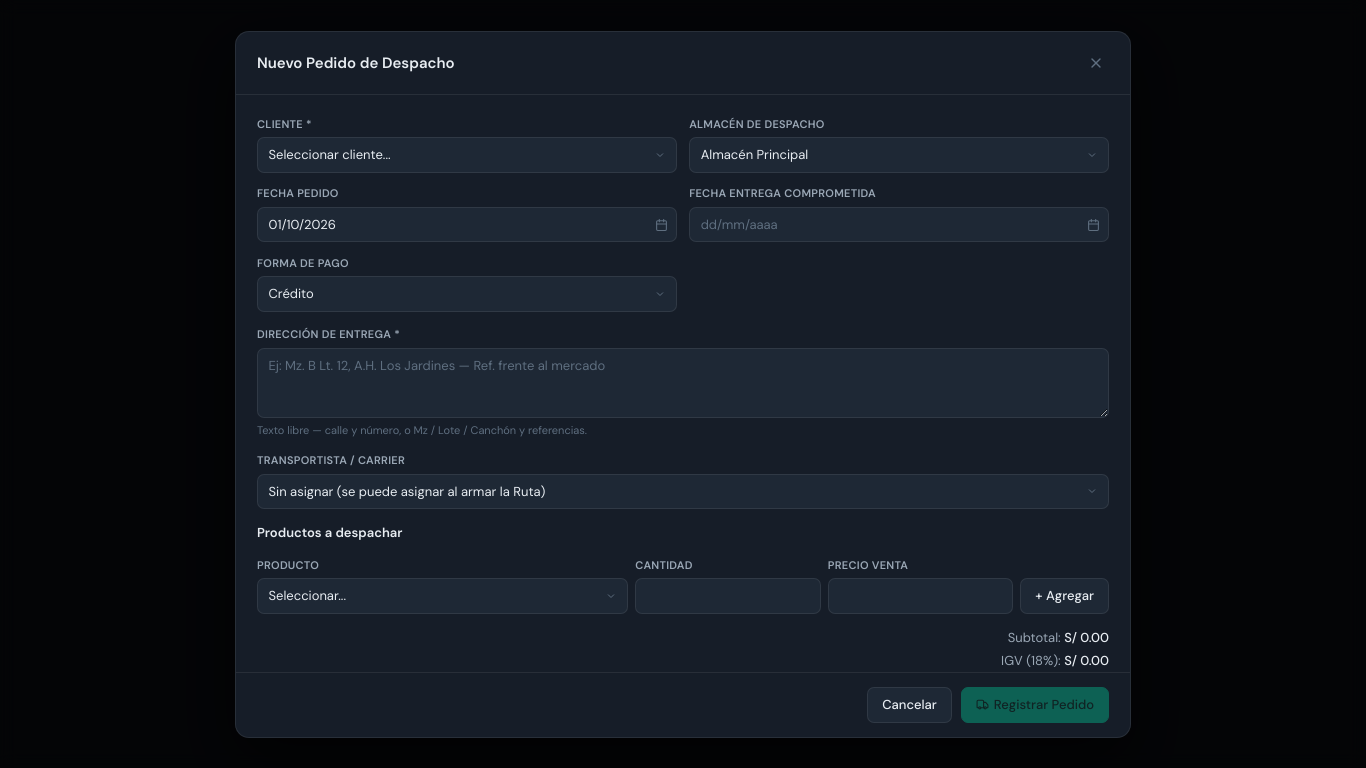
Test case: ModalNuevoPedido › bloquea agregar más cantidad que la disponible en el almacén
Select "Cliente Uno" in the dropdown below "Cliente *": {"x": 467, "y": 155} [257, 137, 677, 172]
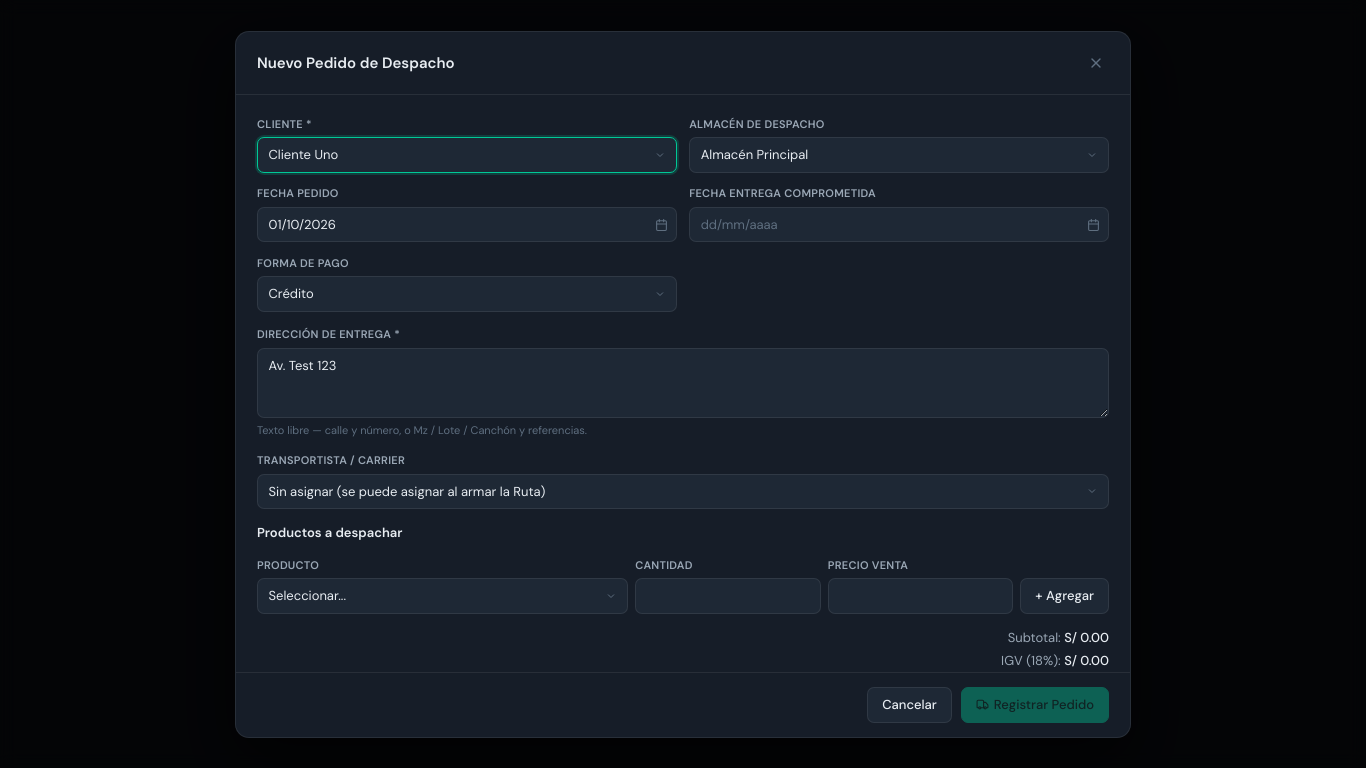
Select "SKU1 — Producto Uno (Stock: 10 UN)" in the dropdown below "Cantidad": {"x": 443, "y": 596} [257, 578, 628, 614]
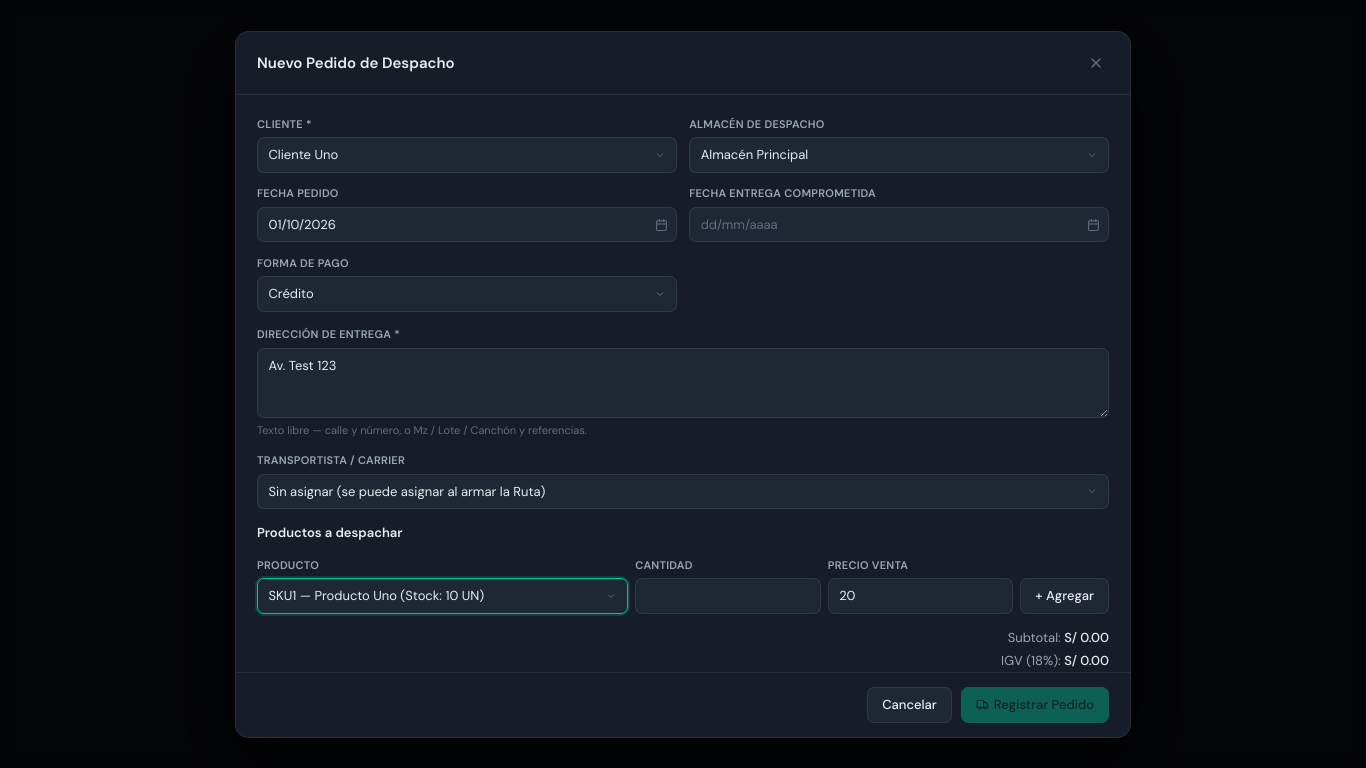
In the number field below "Cantidad": {"x": 728, "y": 596} [635, 578, 821, 614], type "15"
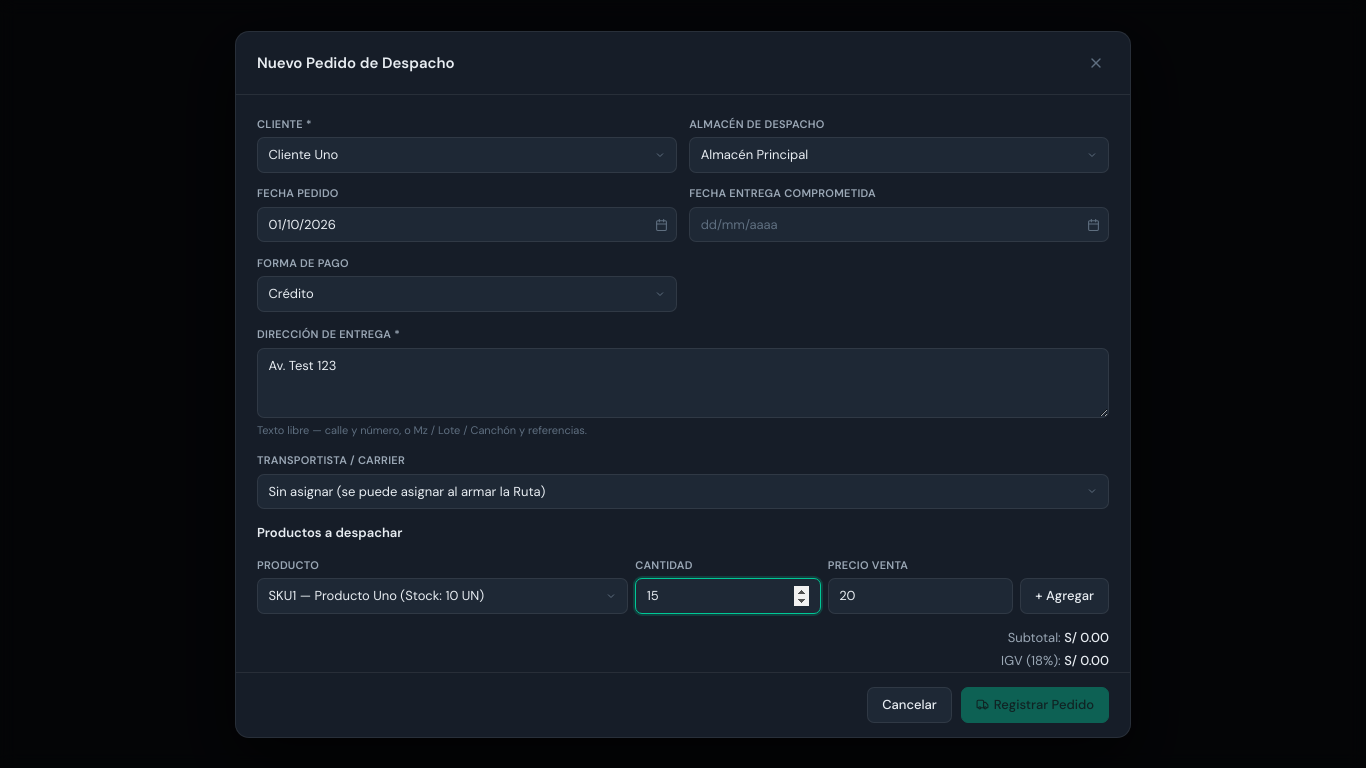
Click the button "+ Agregar": {"x": 1065, "y": 596} [1020, 578, 1109, 614]
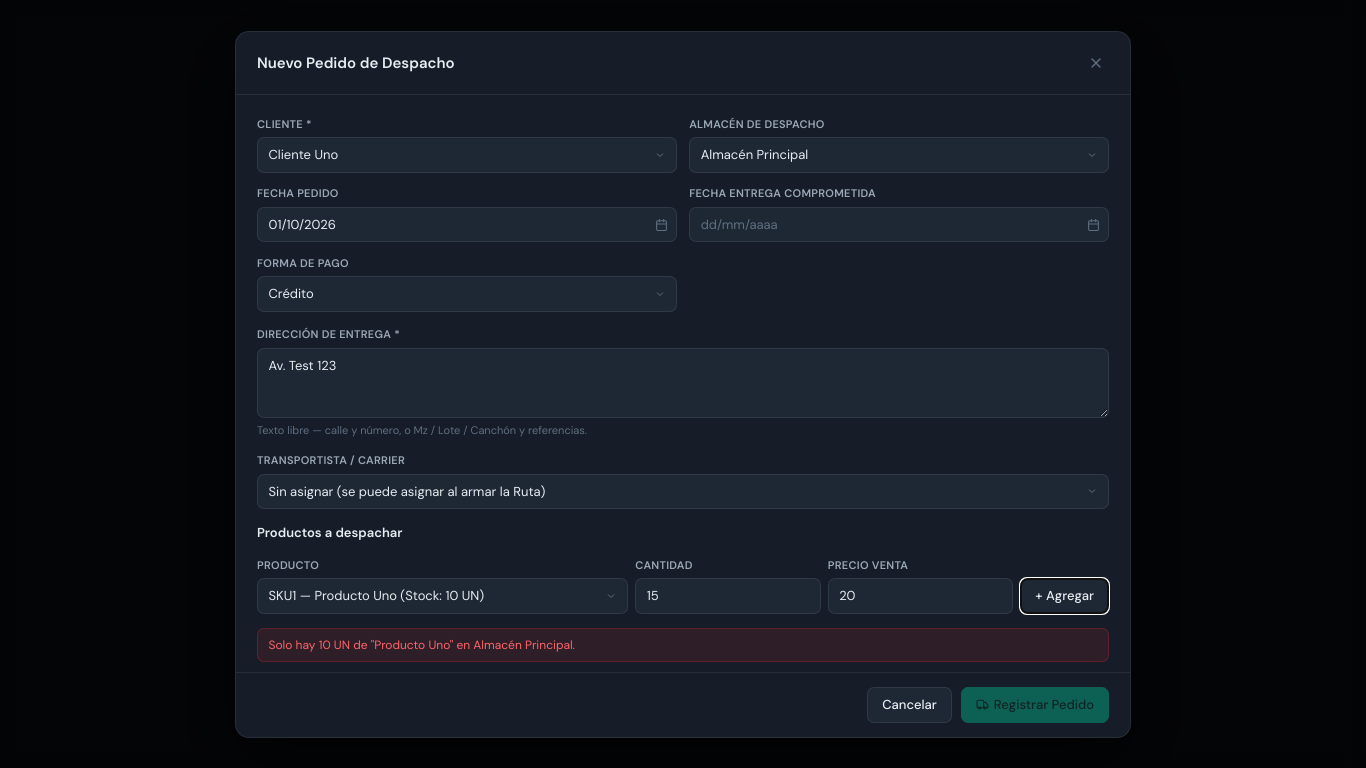
Expected: the button "Registrar Pedido" is disabled, [961, 687, 1109, 722]
Expected: the text "Solo hay 10 UN de \"Producto Uno\" en Almacén Principal." is shown, [257, 628, 1109, 662]
